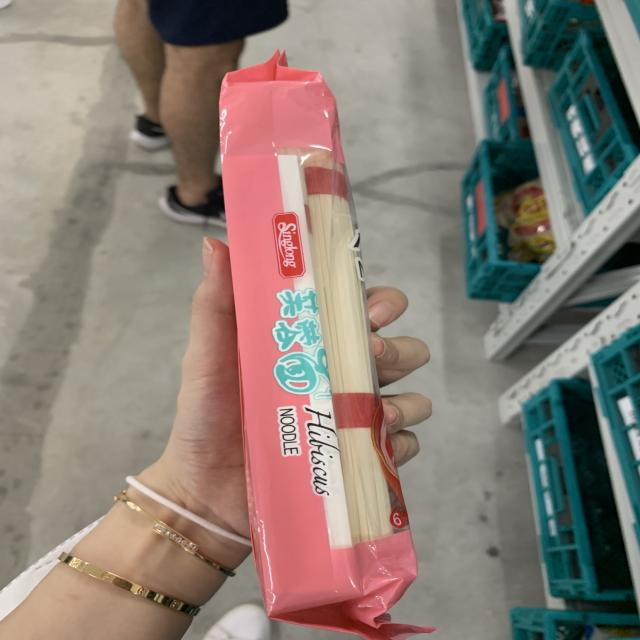object_name: (220, 73, 406, 627)
